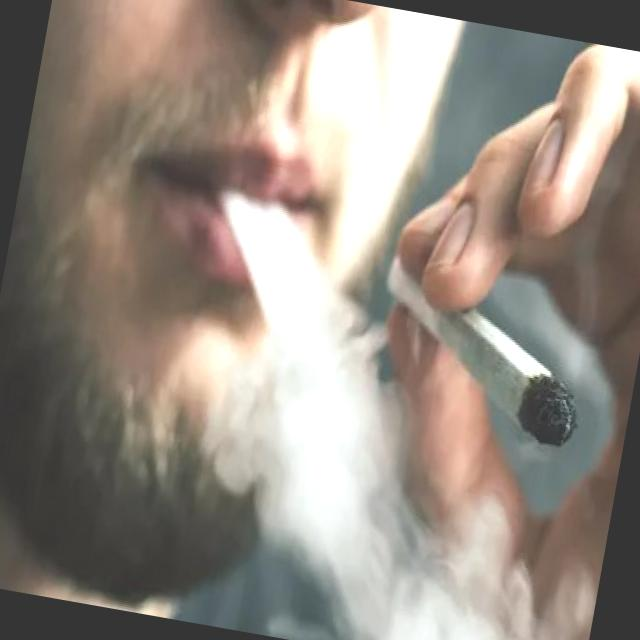smoke: (360, 241, 604, 456)
